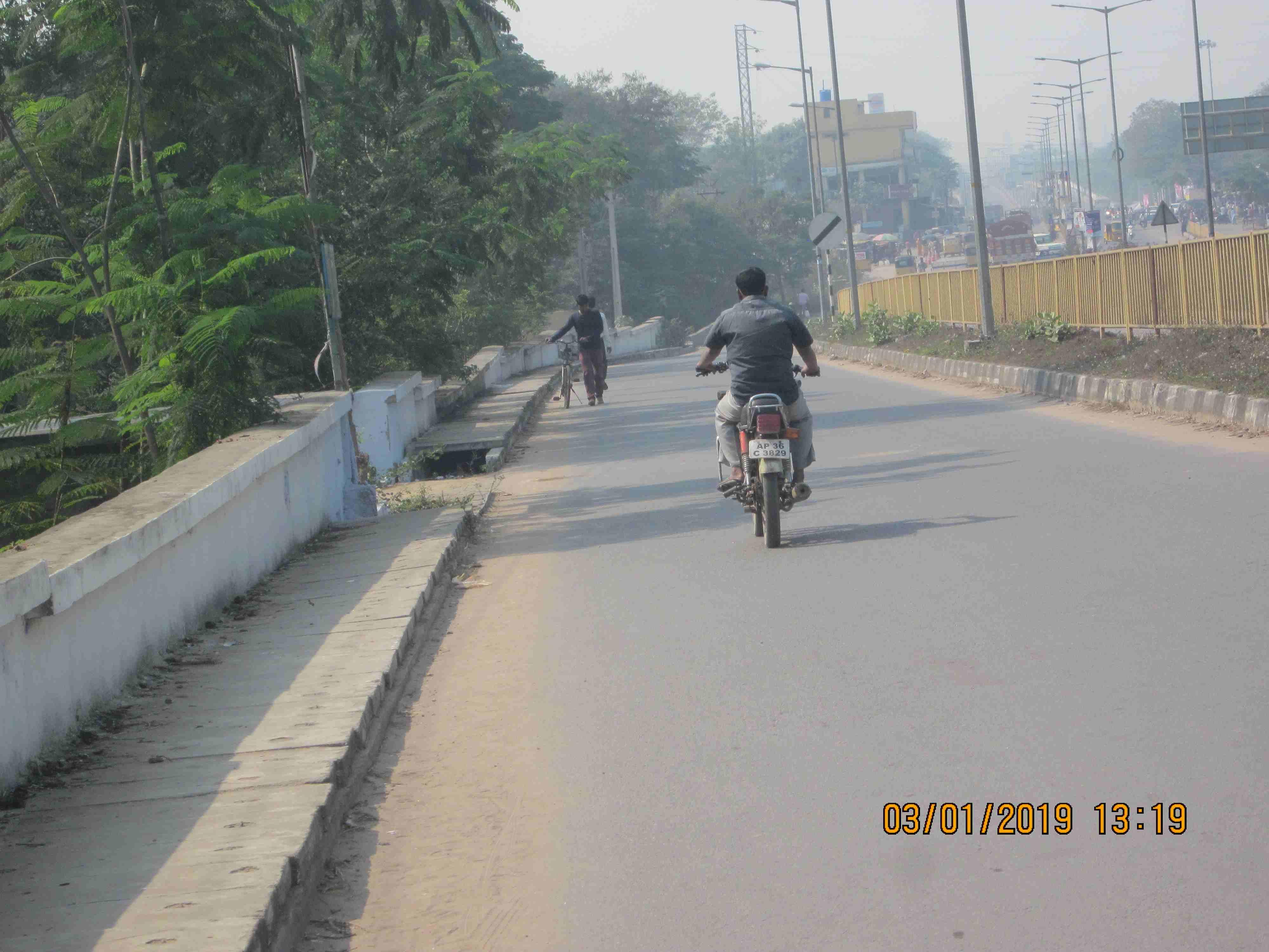plate: (745, 435, 791, 461)
